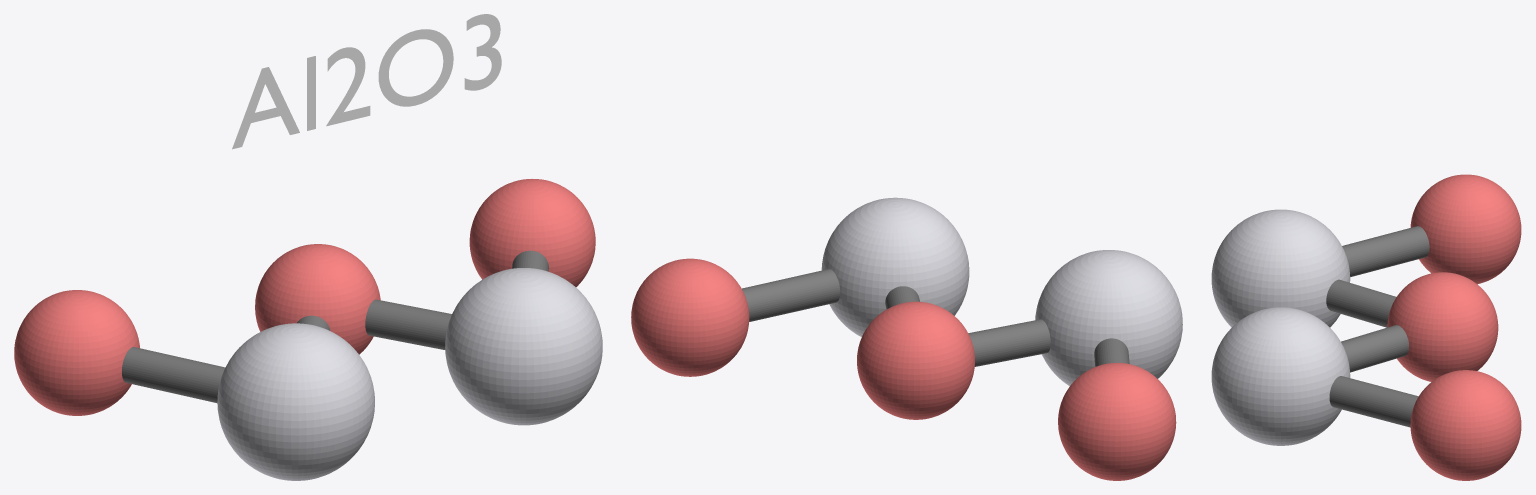
3 renders of one model, left to right at view 1: azimuth 30°, elevation 25°; view 2: azimuth 150°, elevation 25°; view 3: azimuth 270°, elevation 25°, orthographic. The views are drawn at different scales.
Visible parts, largest first — view 1: Al2, Al1, O1, O3, O2, Label, Bond, Bond.002; view 2: Al1, Al2, O3, O2, O1, Bond.003, Bond.001, Bond; view 3: Al2, Al1, O3, O1, O2, Bond.003, Bond, Bond.001, Bond.002.
Boxes of the visible parts, x1,y1,x2,y2 form: Al2: (445,268,602,425); Al1: (217,323,374,480); O1: (14,290,139,415); O3: (469,179,595,287); O2: (255,244,380,354); Label: (232,14,501,149); Bond: (122,347,225,402); Bond.002: (365,299,451,349); Al1: (1035,250,1182,386); Al2: (821,197,969,336); O3: (631,258,749,376); O2: (857,301,974,419); O1: (1058,363,1176,480); Bond.003: (742,269,840,321); Bond.001: (968,319,1050,366); Bond: (1094,338,1129,366); Al2: (1211,307,1350,445); Al1: (1211,209,1350,327); O3: (1410,370,1521,480); O1: (1410,174,1521,284); O2: (1387,272,1498,381); Bond.003: (1329,376,1418,427); Bond: (1342,226,1429,276); Bond.001: (1326,279,1396,327); Bond.002: (1341,325,1408,372).
Size of the model in its own units: 2.48 by 1.58 by 1.34.
